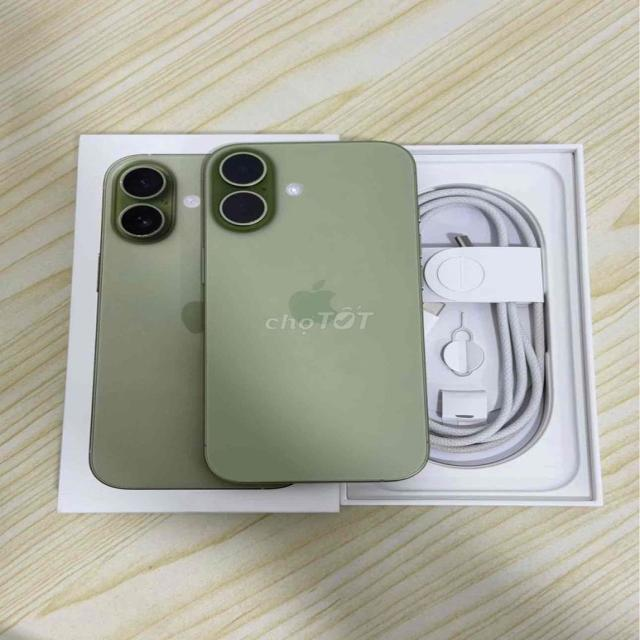gen_17: (205, 138, 440, 493)
